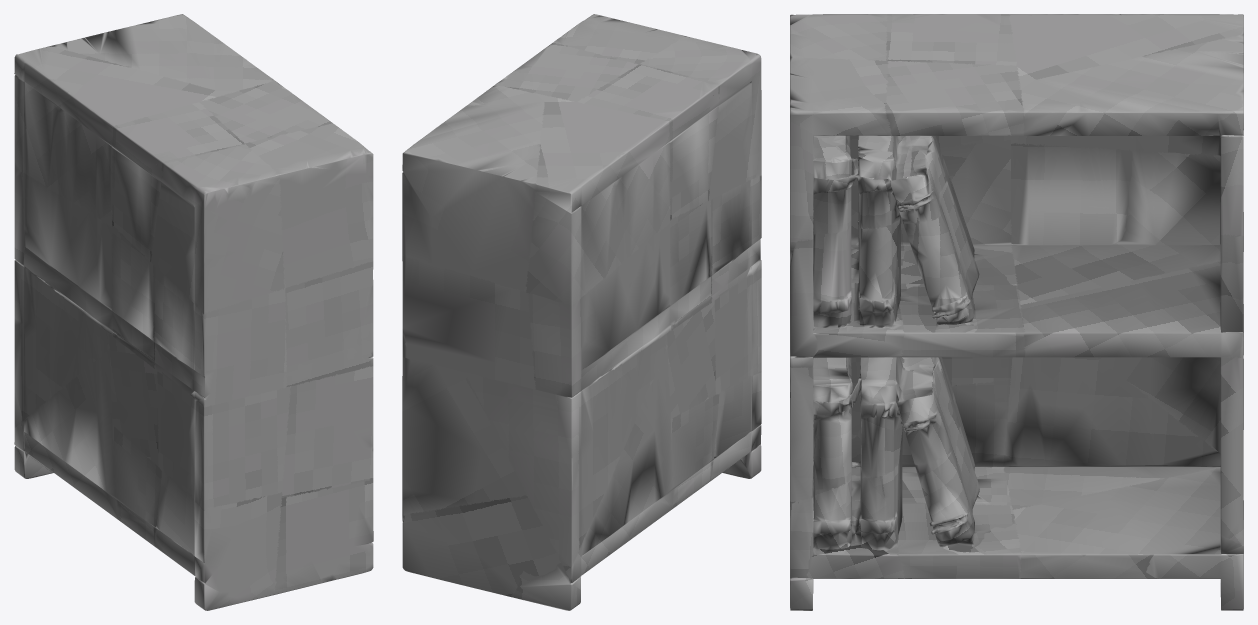
The model's file is l_bookshelf_small.glb.
3 views of the same model, side by side, from view 1: azimuth 30°, elevation 25°; view 2: azimuth 150°, elevation 25°; view 3: azimuth 270°, elevation 25° (orthographic). The views are drawn at different scales.
Visible parts, largest first — view 1: tripo_node_3d27f7a1-408b-4719-8e1e-2bd32f41c568; view 2: tripo_node_3d27f7a1-408b-4719-8e1e-2bd32f41c568; view 3: tripo_node_3d27f7a1-408b-4719-8e1e-2bd32f41c568.
Part boxes in pixels (x1,y1,x2,y2): tripo_node_3d27f7a1-408b-4719-8e1e-2bd32f41c568: [14, 14, 373, 610]; tripo_node_3d27f7a1-408b-4719-8e1e-2bd32f41c568: [402, 14, 761, 610]; tripo_node_3d27f7a1-408b-4719-8e1e-2bd32f41c568: [790, 14, 1243, 610].
Size of the model in its own units: 0.4254 by 1 by 0.8212.
Materials: 1 (1 with a texture image).
